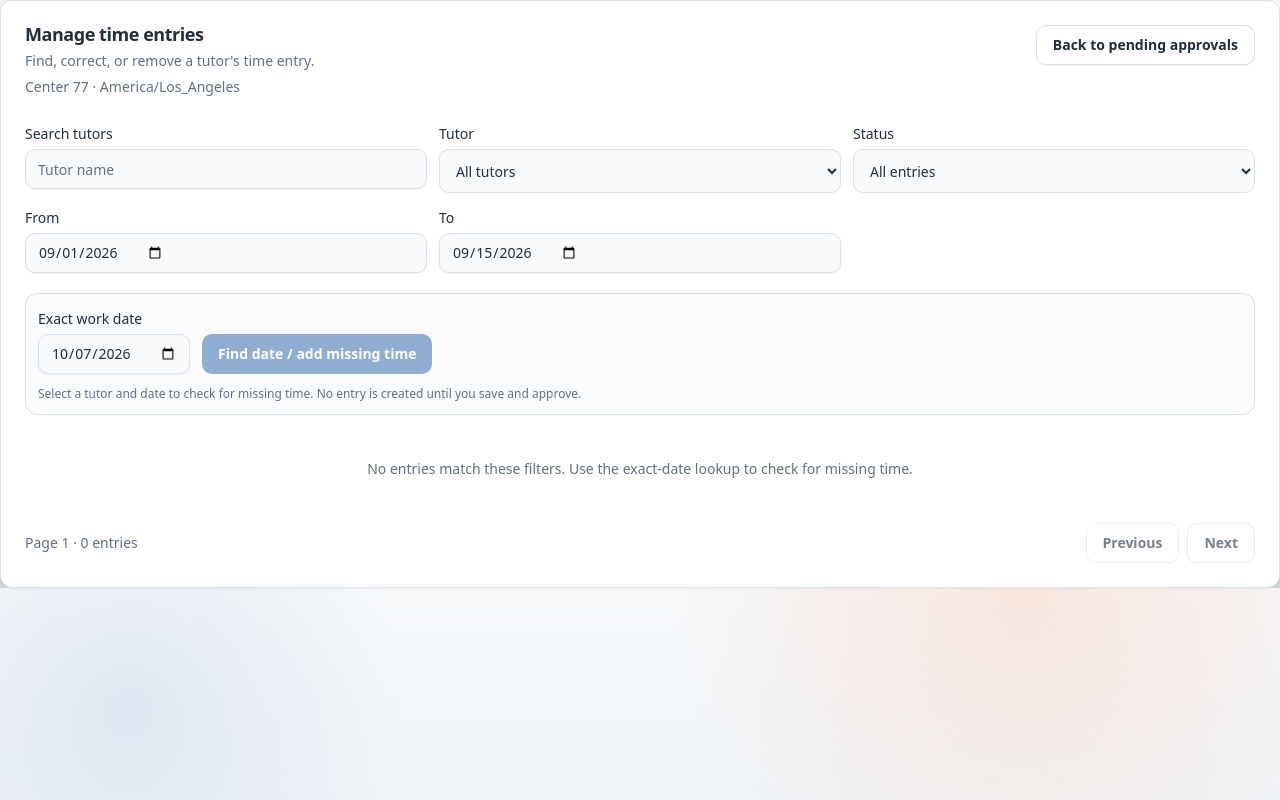
Test: lookup errors never become a missing day or start an editor
Select "Alex Rivera" in the dropdown labelled "Tutor" at (640, 171), box [439,149,841,193]
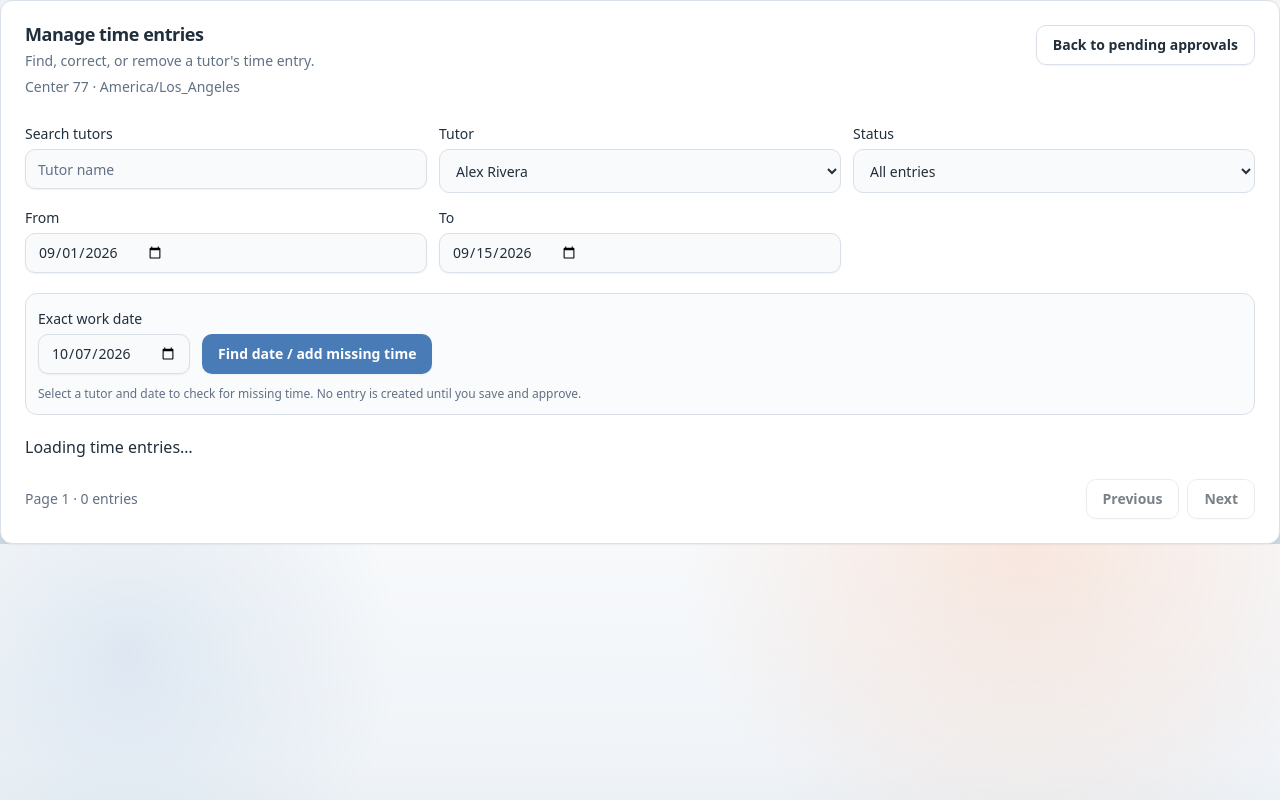
Type "2026-09-15" into the date field labelled "Exact work date".
click(114, 354); type("2026-09-15")  # box [38,334,190,374]
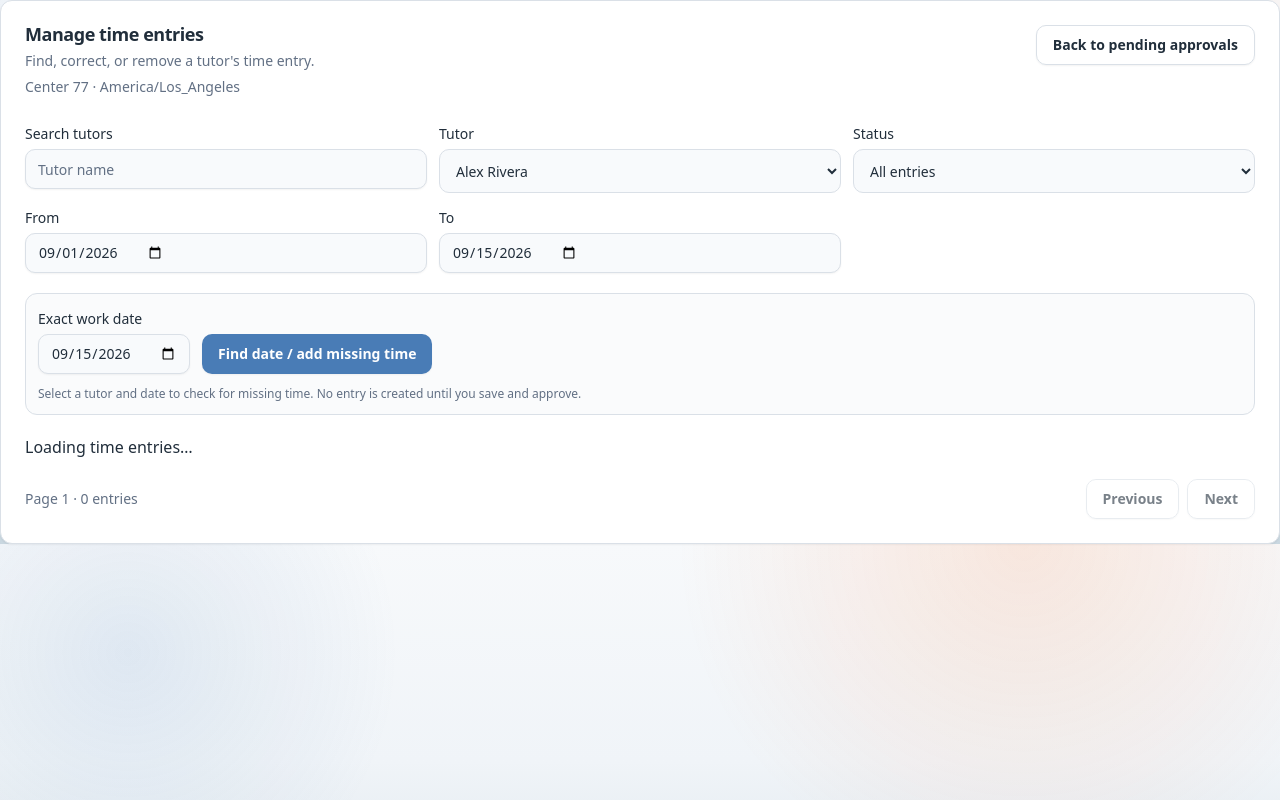
Click the button "Find date / add missing time".
click(317, 354)  # box [202,334,432,374]
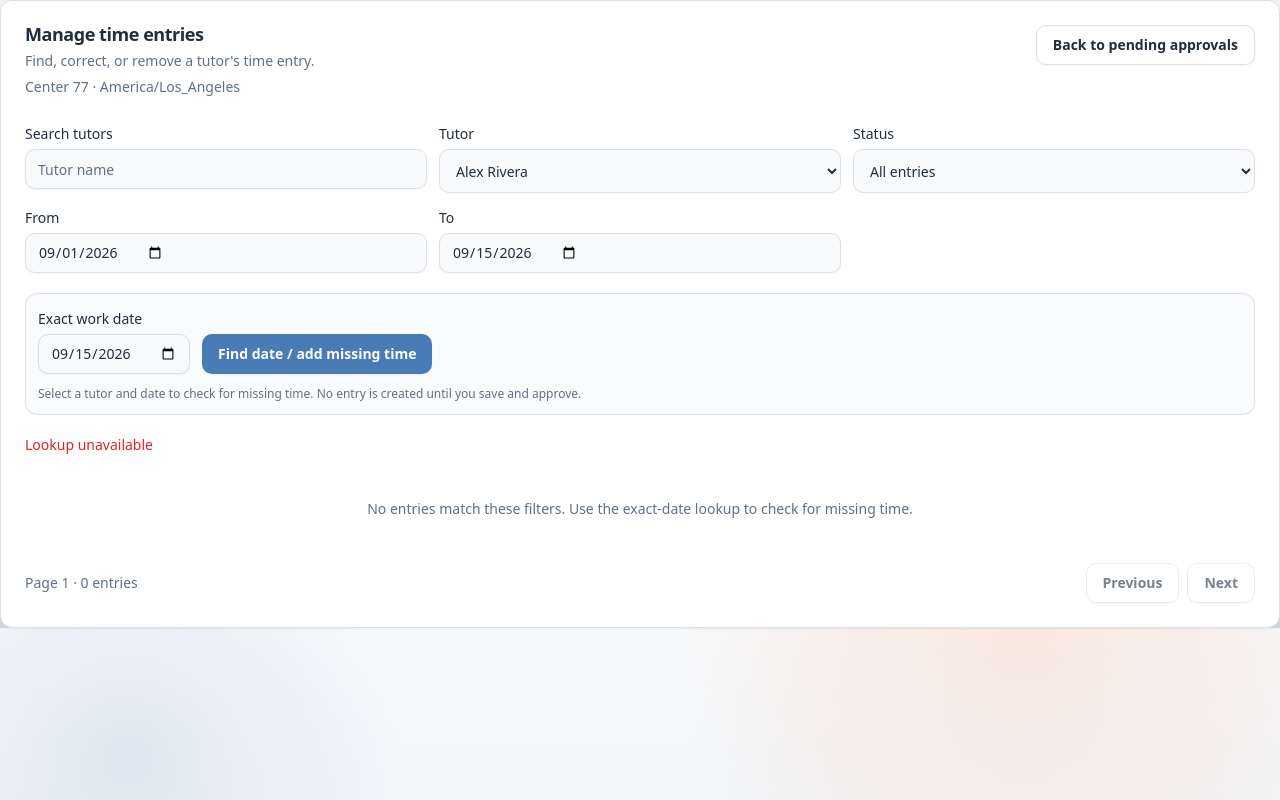
Expected: the text "Lookup unavailable" is shown, [25,435,153,454]
